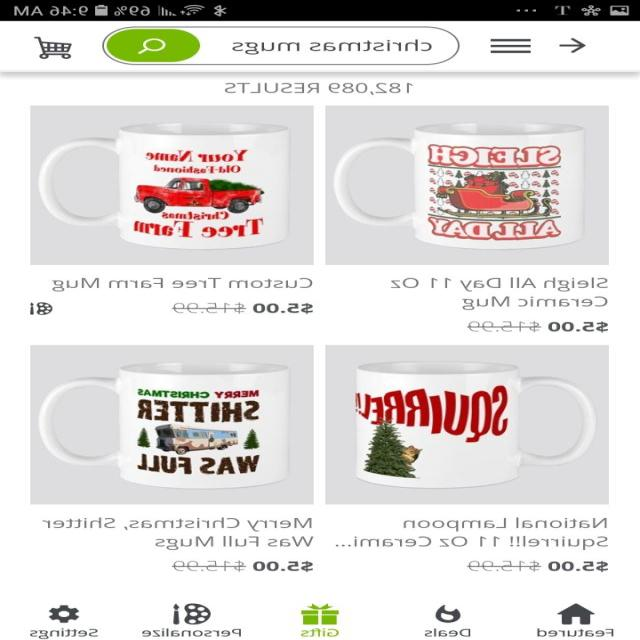EditText: (103, 26, 461, 66)
Icon: (108, 30, 200, 62), (34, 36, 74, 59), (302, 602, 341, 624), (558, 603, 596, 625), (489, 38, 532, 54), (49, 604, 81, 623), (558, 38, 587, 53)
Image: (326, 344, 609, 505), (31, 344, 314, 505), (326, 105, 609, 266), (31, 106, 314, 265), (174, 602, 212, 624), (436, 604, 462, 623), (30, 301, 54, 315)
Text: (43, 516, 314, 550), (336, 517, 608, 550), (390, 277, 607, 310), (52, 278, 313, 292), (232, 40, 433, 54), (224, 82, 413, 96), (466, 320, 608, 333), (172, 560, 314, 572), (172, 302, 314, 314), (466, 561, 608, 572), (142, 628, 242, 636), (31, 628, 100, 638), (536, 628, 614, 636), (424, 628, 470, 636), (302, 628, 339, 636)
